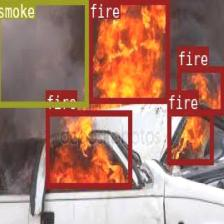fire: (88, 0, 168, 103), (45, 110, 131, 188), (167, 109, 212, 163), (177, 66, 223, 113)
smoke: (0, 0, 88, 107)
